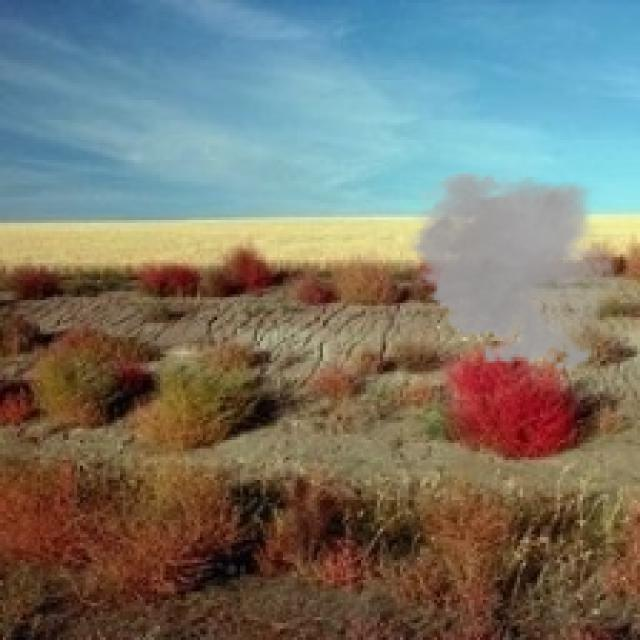smoke: (400, 163, 629, 377)
